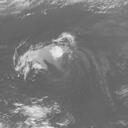cyclone: (15, 37, 74, 78)
